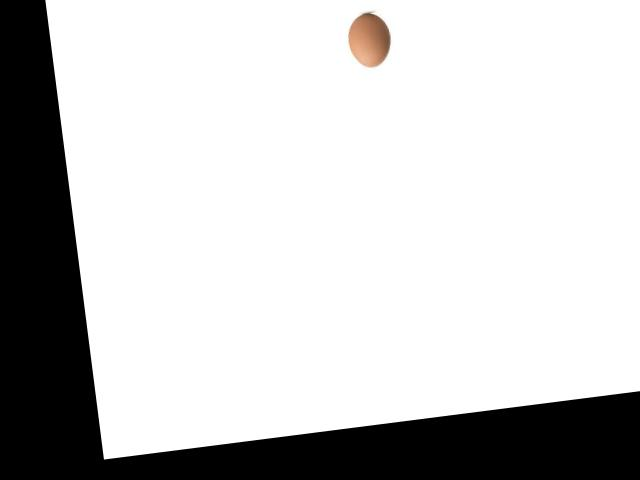egg: (346, 10, 394, 69)
